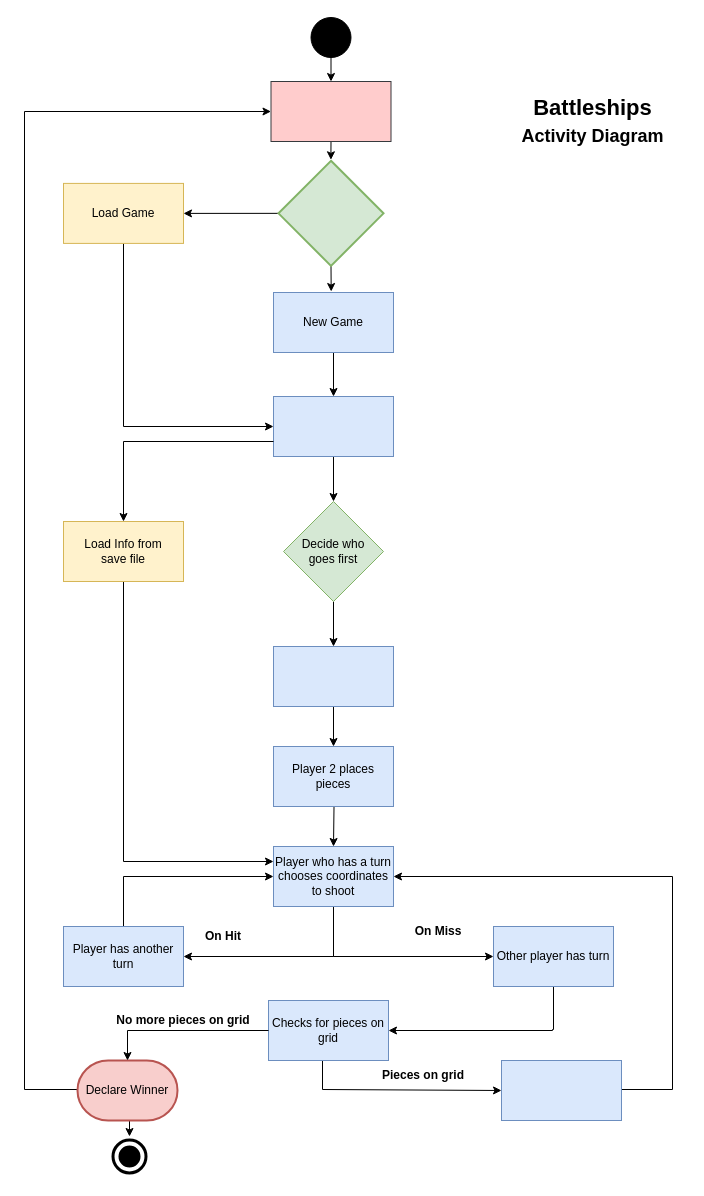
Image size: 704x1196. Some labels were removed from this diagram. The shapes that lost their labels are listed below. From the top down, each one's centre as x and y in pixels, then its label:
[330,111]: Menu
[330,212]: Select Option
[333,426]: Show grid
[333,676]: Player 1 places pieces
[561,1090]: New round
